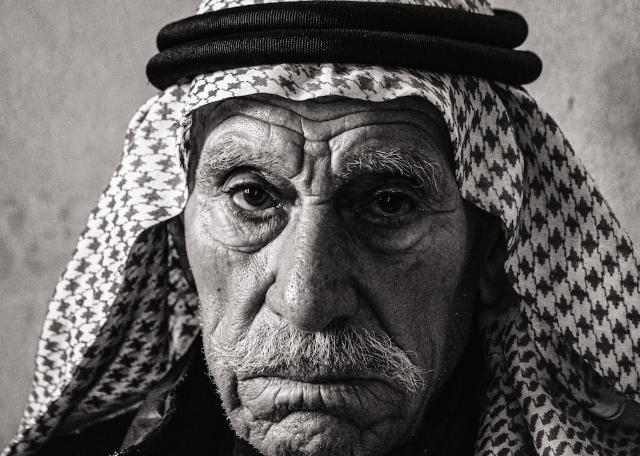chin: (277, 390, 349, 426), (357, 415, 381, 446)
crows_feet: (426, 198, 459, 226)
forehead: (290, 106, 342, 142), (346, 103, 406, 134), (228, 108, 280, 126)
frown_line: (288, 144, 310, 180), (320, 142, 338, 182)
gummy_smile: (358, 283, 390, 331), (248, 284, 270, 320)
sad_smile: (226, 376, 248, 412)
